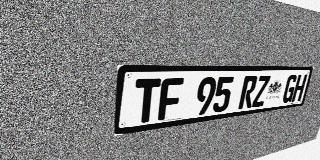5: (212, 76, 234, 113)
9: (194, 77, 218, 116)
F: (158, 78, 184, 121)
G: (281, 75, 298, 103)
H: (291, 74, 307, 102)
R: (238, 76, 258, 109)
T: (133, 78, 161, 124)
Z: (251, 75, 271, 107)
